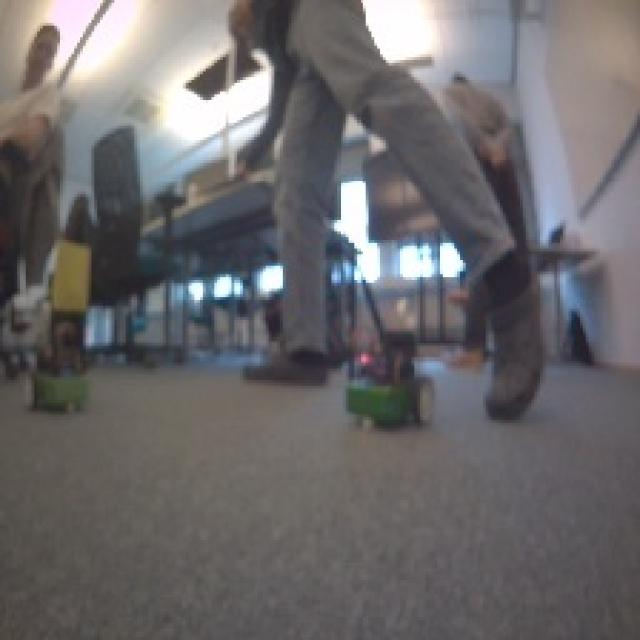robot: (342, 341, 440, 431), (19, 337, 95, 417)
